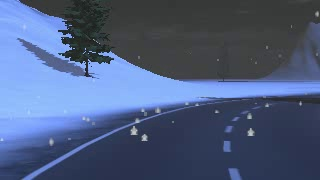Lane: (27, 92, 319, 179)
